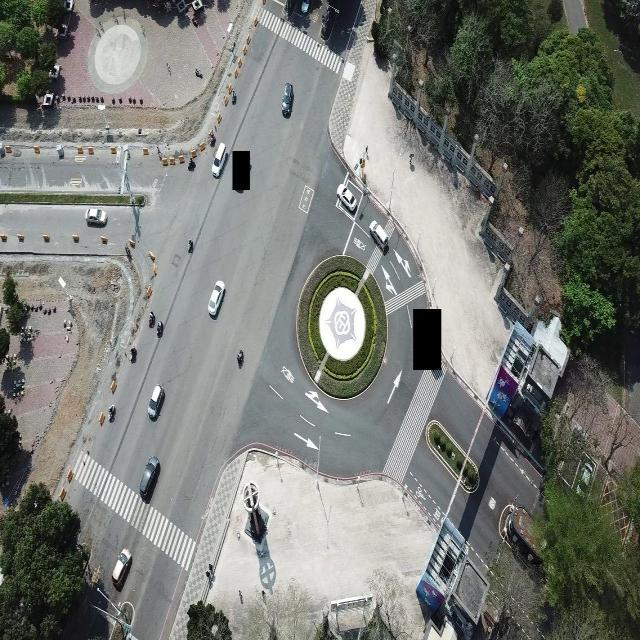bike: (156, 320, 165, 340), (128, 343, 137, 362), (107, 402, 115, 423), (148, 309, 156, 329), (237, 347, 244, 367), (228, 85, 234, 106), (210, 128, 216, 148), (186, 237, 192, 255)
car: (139, 455, 160, 502), (112, 549, 131, 588), (577, 460, 594, 500), (207, 281, 225, 317), (369, 220, 388, 253), (147, 384, 164, 420), (337, 186, 357, 213), (212, 141, 226, 177), (86, 205, 107, 226), (282, 81, 293, 116)
